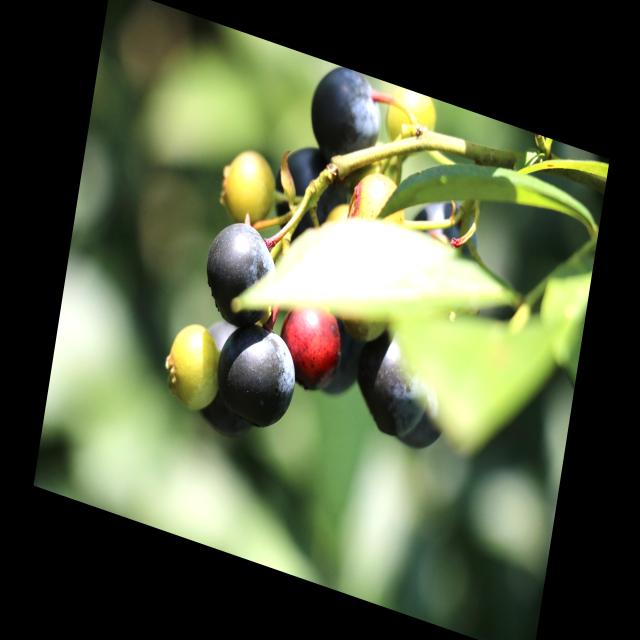blueberry: (349, 320, 436, 451), (198, 211, 285, 338), (211, 316, 301, 438), (267, 135, 354, 251), (304, 60, 387, 168)
blueberry-halfripe: (273, 295, 344, 398)
blueberry-unripe: (159, 312, 227, 420), (215, 136, 279, 230), (380, 85, 445, 168), (348, 164, 414, 240)
